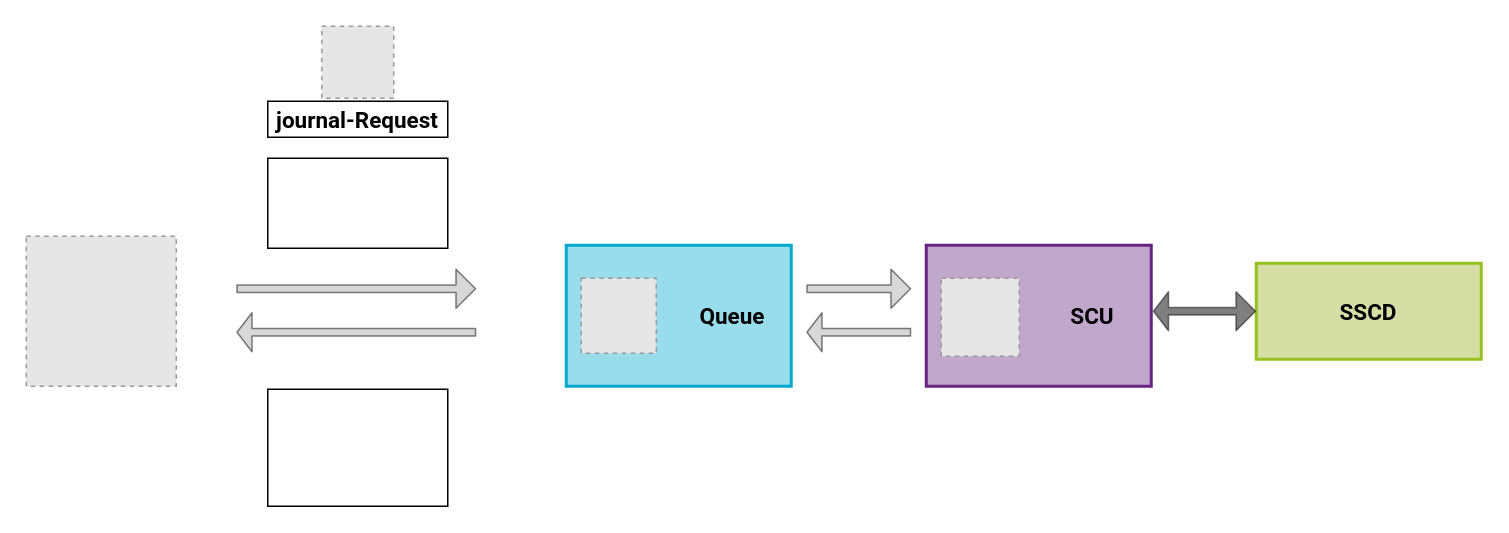
The diagram is 1509 pixels wide and 533 high, and some of its shapes have lost their labels. Grey dashed boxes stand in for pictures. The box of each missing label's shape, as (x1, y1, x2, y2) in pixels:
paramenter "type" (e.g. ../Journal&type=2 ): (266, 157, 448, 248)
Response data depending on the requested type: (266, 388, 448, 506)
